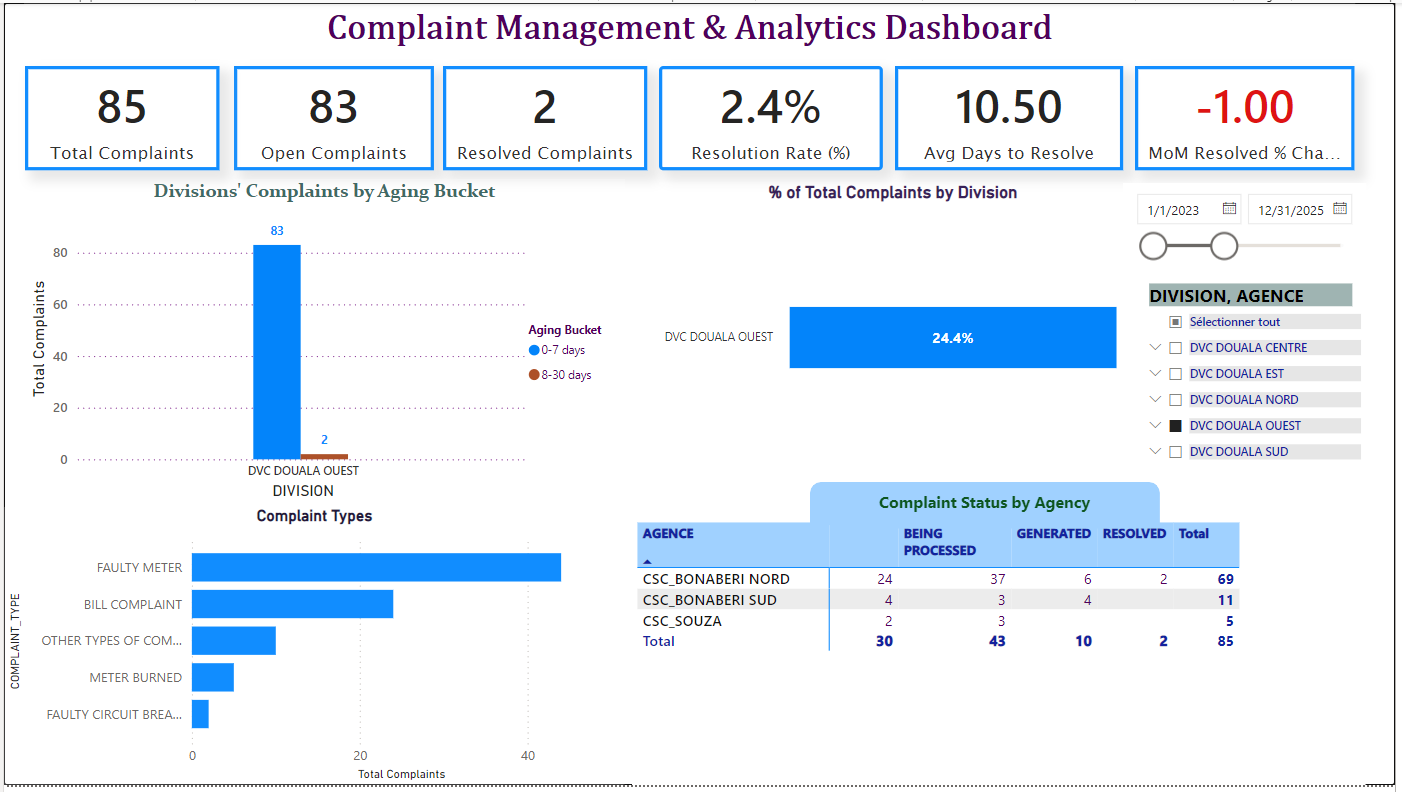

The page's visual inventory and layout, read from the dashboard file:
{"tool":"powerbi","page":{"name":"Dashboard","canvas":[1280,720],"ordinal":0},"visuals":[{"type":"group","id":"g1","title":"Groupe 1","box":[0,0,1253.3,719.6],"z":0},{"type":"card","fields":{"Values":["INSTANCE RECLAMATION.Open Complaints"]},"box":[211.6,57.9,184,96.1],"z":0,"group":"g1"},{"type":"card","fields":{"Values":["INSTANCE RECLAMATION.RESOLVED COMPLAINTS"]},"box":[404,57.9,187.7,96.1],"z":1000,"group":"g1"},{"type":"shape","box":[741.7,440.8,322.1,39.6],"z":1000},{"type":"card","fields":{"Values":["INSTANCE RECLAMATION.Resolution Rate (%)"]},"box":[602.7,57.9,206.1,96.1],"z":2000,"group":"g1"},{"type":"textbox","box":[763.8,443.5,277,39.6],"z":2000},{"type":"card","fields":{"Values":["INSTANCE RECLAMATION.Avg Days to Resolve"]},"box":[819.9,57.9,209.8,96.1],"z":3000,"group":"g1"},{"type":"funnel","title":"% of Total Complaints by Division","fields":{"Category":["INSTANCE RECLAMATION.DIVISION"],"Y":["INSTANCE RECLAMATION.% of Total Complaints"]},"box":[591.9,164.8,441.5,267.8],"z":4000,"group":"g1"},{"type":"clusteredColumnChart","title":"Divisions'' Complaints by Aging Bucket ","fields":{"Y":["INSTANCE RECLAMATION.Total Complaints"],"Category":["INSTANCE RECLAMATION.DIVISION"],"Series":["INSTANCE RECLAMATION.Aging Bucket"]},"box":[18.4,162.4,553,299.6],"z":5000,"group":"g1"},{"type":"card","fields":{"Values":["INSTANCE RECLAMATION.Total Complaints"]},"box":[19.3,57.9,178.5,96.1],"z":6000,"group":"g1"},{"type":"clusteredBarChart","title":"Complaint Types","fields":{"Category":["INSTANCE RECLAMATION.COMPLAINT_TYPE"],"Y":["INSTANCE RECLAMATION.Total Complaints"]},"box":[0,463.9,571.4,255.7],"z":7000,"group":"g1"},{"type":"card","fields":{"Values":["INSTANCE RECLAMATION.MoM Resolved % Change"]},"box":[1040.7,57.9,202.4,96.1],"z":8000,"group":"g1"},{"type":"textbox","box":[18.4,0,1224.8,49.5],"z":10000,"group":"g1"},{"type":"slicer","fields":{"Values":["INSTANCE RECLAMATION.DIVISION","INSTANCE RECLAMATION.AGENCE"]},"box":[1040.7,252.9,212.6,179.2],"z":11000,"group":"g1"},{"type":"slicer","fields":{"Values":["DateTable.Date"]},"box":[1029.7,165.2,223.6,87.7],"z":12000,"group":"g1"},{"type":"pivotTable","fields":{"Rows":["INSTANCE RECLAMATION.AGENCE"],"Values":["INSTANCE RECLAMATION.Total Complaints"],"Columns":["INSTANCE RECLAMATION.COMPLAINT_SERVICE_ORDER_STATUS"]},"box":[577.9,473,675.4,246.6],"z":13000,"group":"g1"}]}

Visuals, with their boxes in screenshot pixels (x1, y1, x2, y2), scaled from the page's 1280x720 canvas onto the 1402x792 screenshot:
"Groupe 1" group: x1=0, y1=0, x2=1373, y2=791
card - INSTANCE RECLAMATION.Open Complaints: x1=232, y1=64, x2=433, y2=169
card - INSTANCE RECLAMATION.RESOLVED COMPLAINTS: x1=443, y1=64, x2=648, y2=169
shape: x1=812, y1=485, x2=1165, y2=528
card - INSTANCE RECLAMATION.Resolution Rate (%): x1=660, y1=64, x2=886, y2=169
textbox: x1=837, y1=488, x2=1140, y2=531
card - INSTANCE RECLAMATION.Avg Days to Resolve: x1=898, y1=64, x2=1128, y2=169
"% of Total Complaints by Division" funnel: x1=648, y1=181, x2=1132, y2=476
"Divisions'' Complaints by Aging Bucket " clusteredColumnChart: x1=20, y1=179, x2=626, y2=508
card - INSTANCE RECLAMATION.Total Complaints: x1=21, y1=64, x2=217, y2=169
"Complaint Types" clusteredBarChart: x1=0, y1=510, x2=626, y2=791
card - INSTANCE RECLAMATION.MoM Resolved % Change: x1=1140, y1=64, x2=1362, y2=169
textbox: x1=20, y1=0, x2=1362, y2=54
slicer - INSTANCE RECLAMATION.DIVISION x INSTANCE RECLAMATION.AGENCE: x1=1140, y1=278, x2=1373, y2=475
slicer - DateTable.Date: x1=1128, y1=182, x2=1373, y2=278
pivotTable - INSTANCE RECLAMATION.AGENCE x INSTANCE RECLAMATION.Total Complaints: x1=633, y1=520, x2=1373, y2=791
